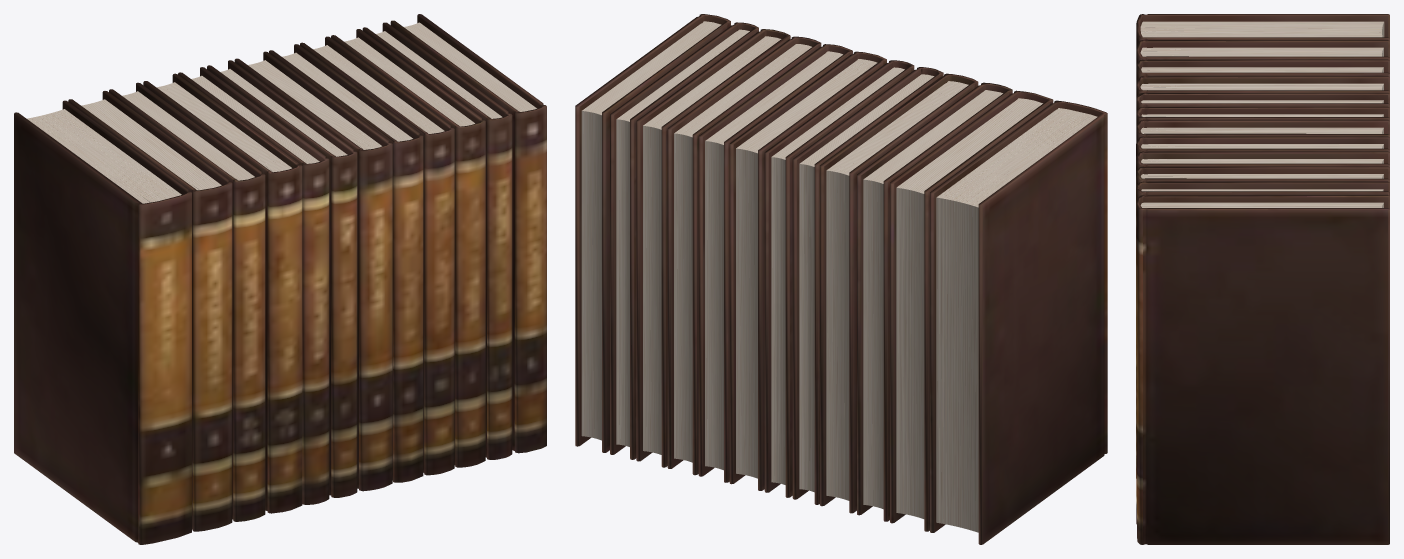
Rendered from book_encyclopedia_set_01.lite.glb.
3 renders of one model, left to right at view 1: azimuth 30°, elevation 25°; view 2: azimuth 150°, elevation 25°; view 3: azimuth 270°, elevation 25°, orthographic.
Parts seen in each view (by area): view 1: book_encyclopedia_set_01_book01; view 2: book_encyclopedia_set_01_book01; view 3: book_encyclopedia_set_01_book01.
Part boxes in pixels (bbox=[...]): book_encyclopedia_set_01_book01: bbox=[14, 14, 546, 544]; book_encyclopedia_set_01_book01: bbox=[575, 14, 1107, 544]; book_encyclopedia_set_01_book01: bbox=[1136, 14, 1389, 544].
Size of the model in its own units: 0.2984 by 0.2374 by 0.1631.
2 materials, 2 textured.
